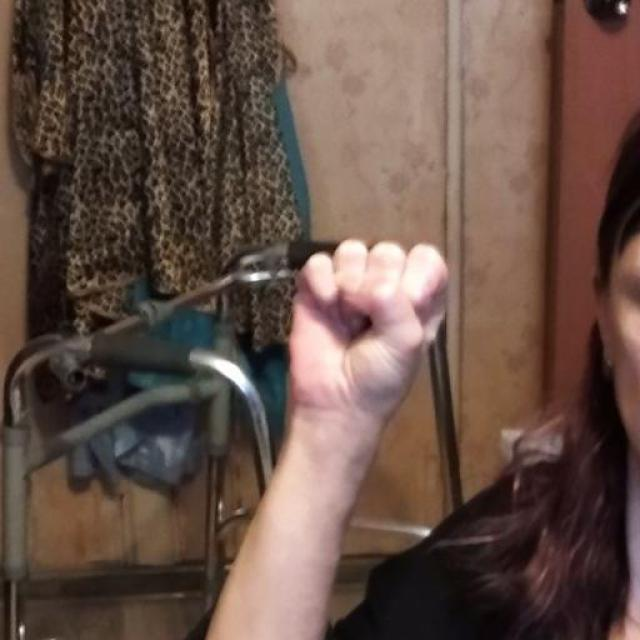hand: (284, 236, 448, 442)
